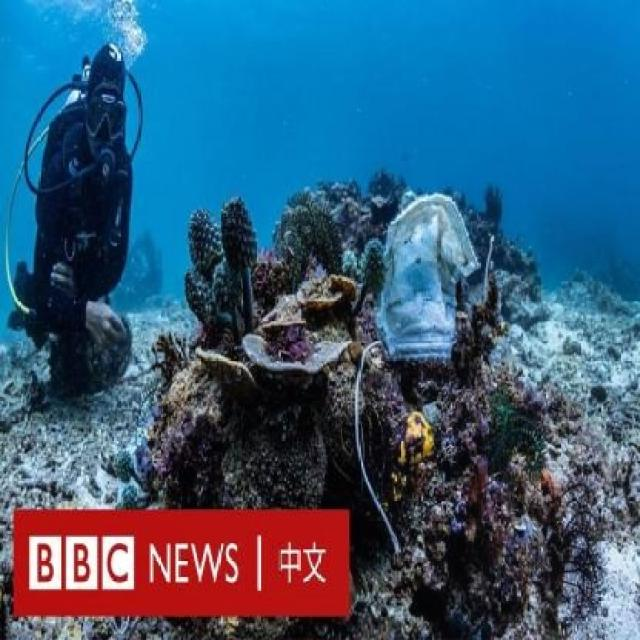Mask: (377, 187, 477, 376)
